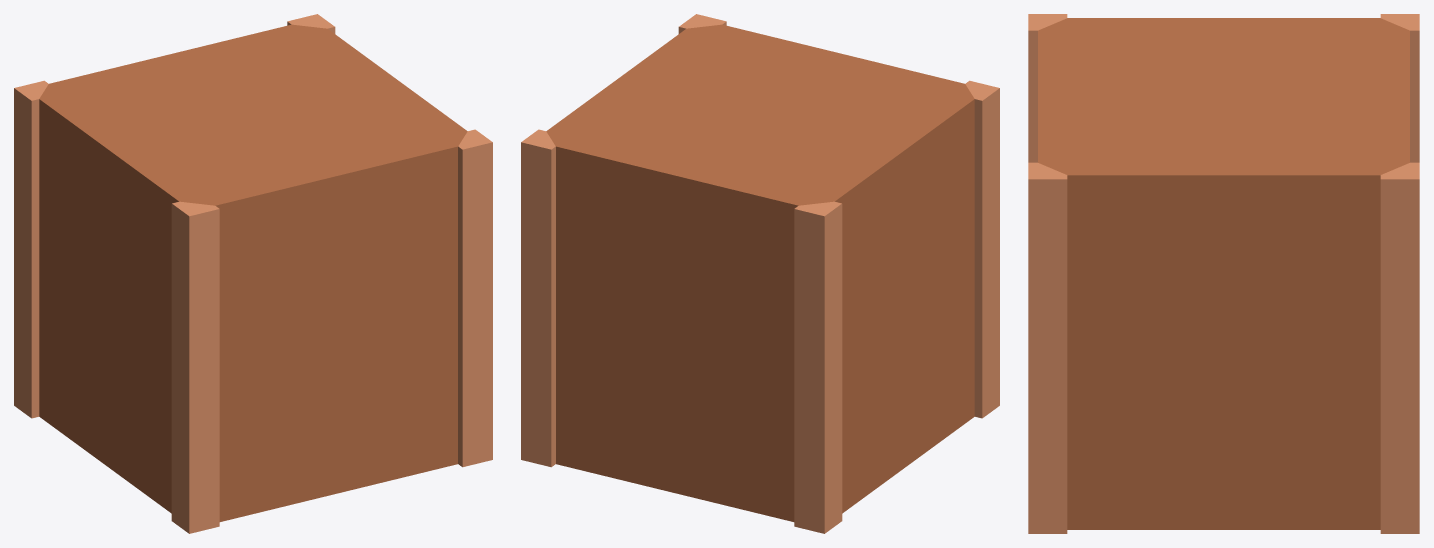
Rendered from wallWoodBlock.fbx.
3 renders of one model, left to right at view 1: azimuth 30°, elevation 25°; view 2: azimuth 150°, elevation 25°; view 3: azimuth 270°, elevation 25°, orthographic. The views are drawn at different scales.
Parts seen in each view (by area): view 1: wallWoodBlock; view 2: wallWoodBlock; view 3: wallWoodBlock.
Part boxes in pixels (x1=…): wallWoodBlock: x1=14, y1=14, x2=492, y2=533; wallWoodBlock: x1=521, y1=14, x2=999, y2=533; wallWoodBlock: x1=1028, y1=14, x2=1419, y2=533.
Bounding box in the file's own units: 10 × 10 × 10.
